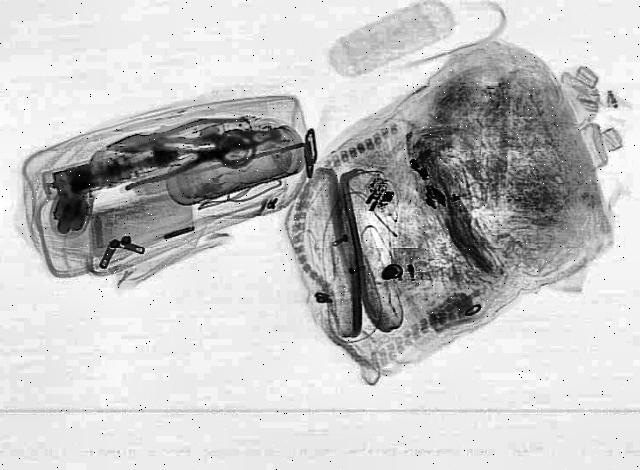Pliers: (107, 124, 255, 192), (103, 113, 260, 167)
